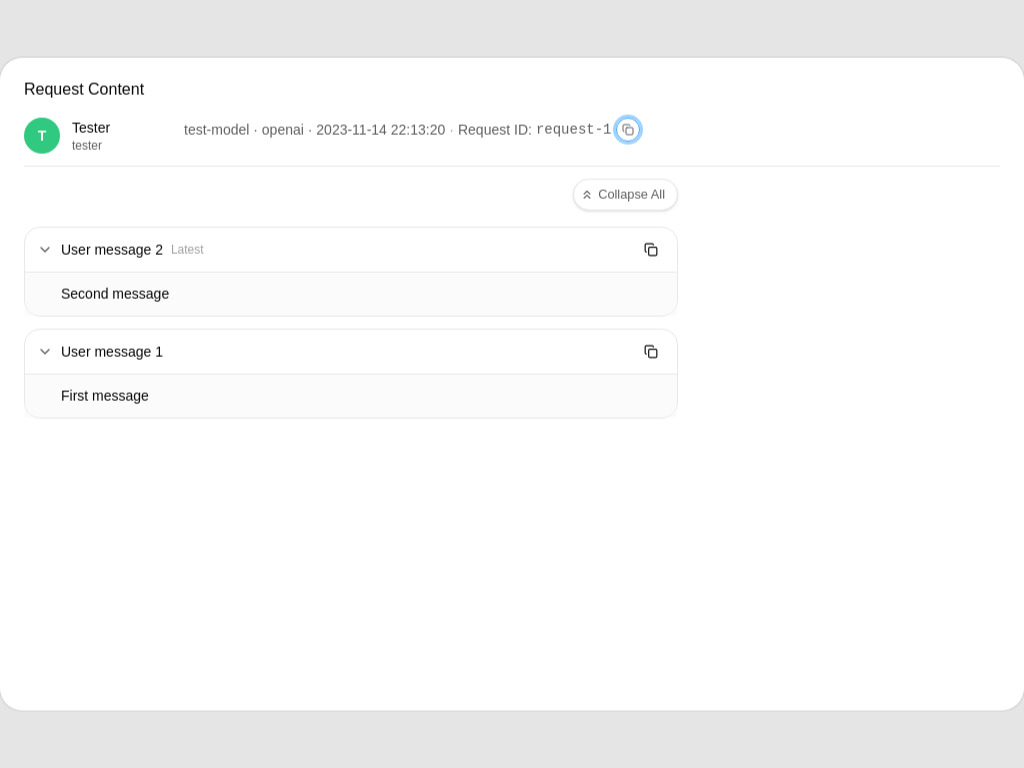
it: request content message collapse controls › keeps individual message toggles available after collapsing all
This screenshot has width=1024, height=768.
Click the button "Collapse All": (626, 195) x1=573 y1=179 x2=678 y2=211
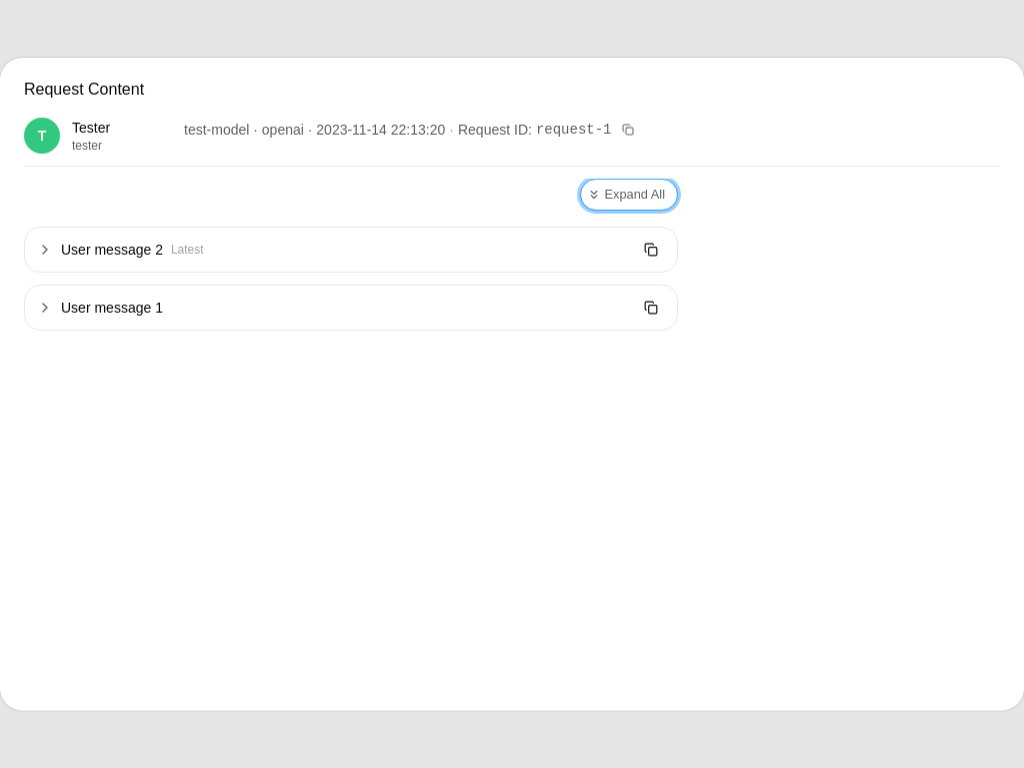
Click the text "User message 2": (120, 250) x1=37 y1=242 x2=204 y2=258
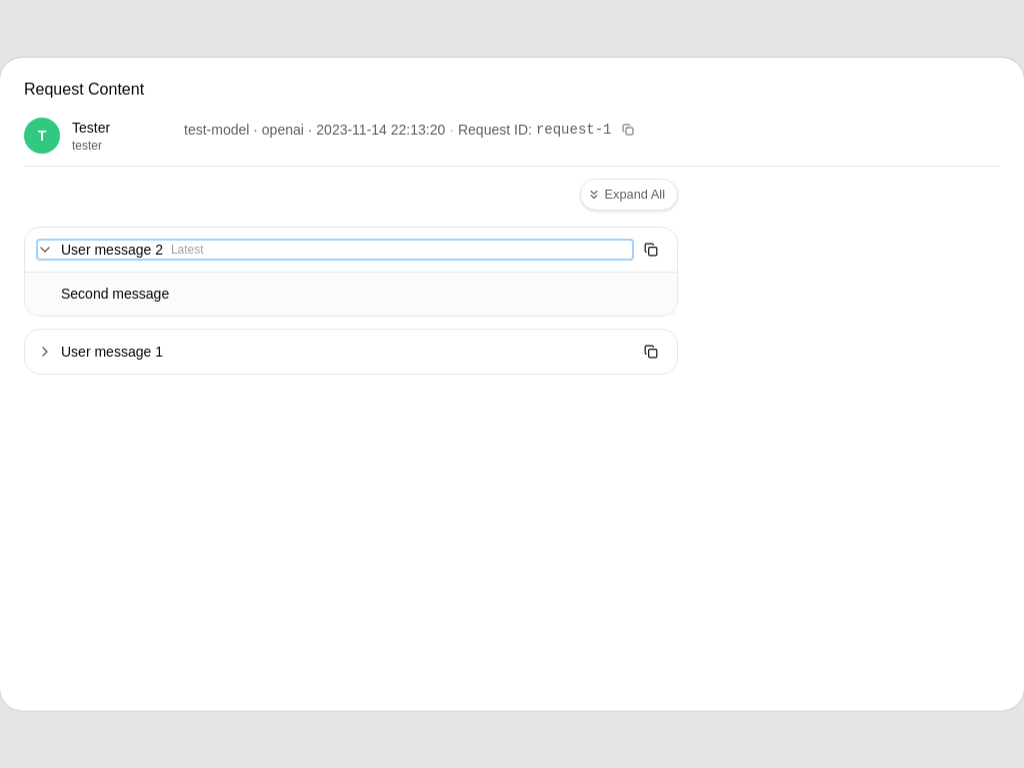
Check: the text "User message 1" is collapsed, box x1=37 y1=343 x2=163 y2=359
Check: the text "User message 2" is expanded, box x1=37 y1=242 x2=204 y2=258
